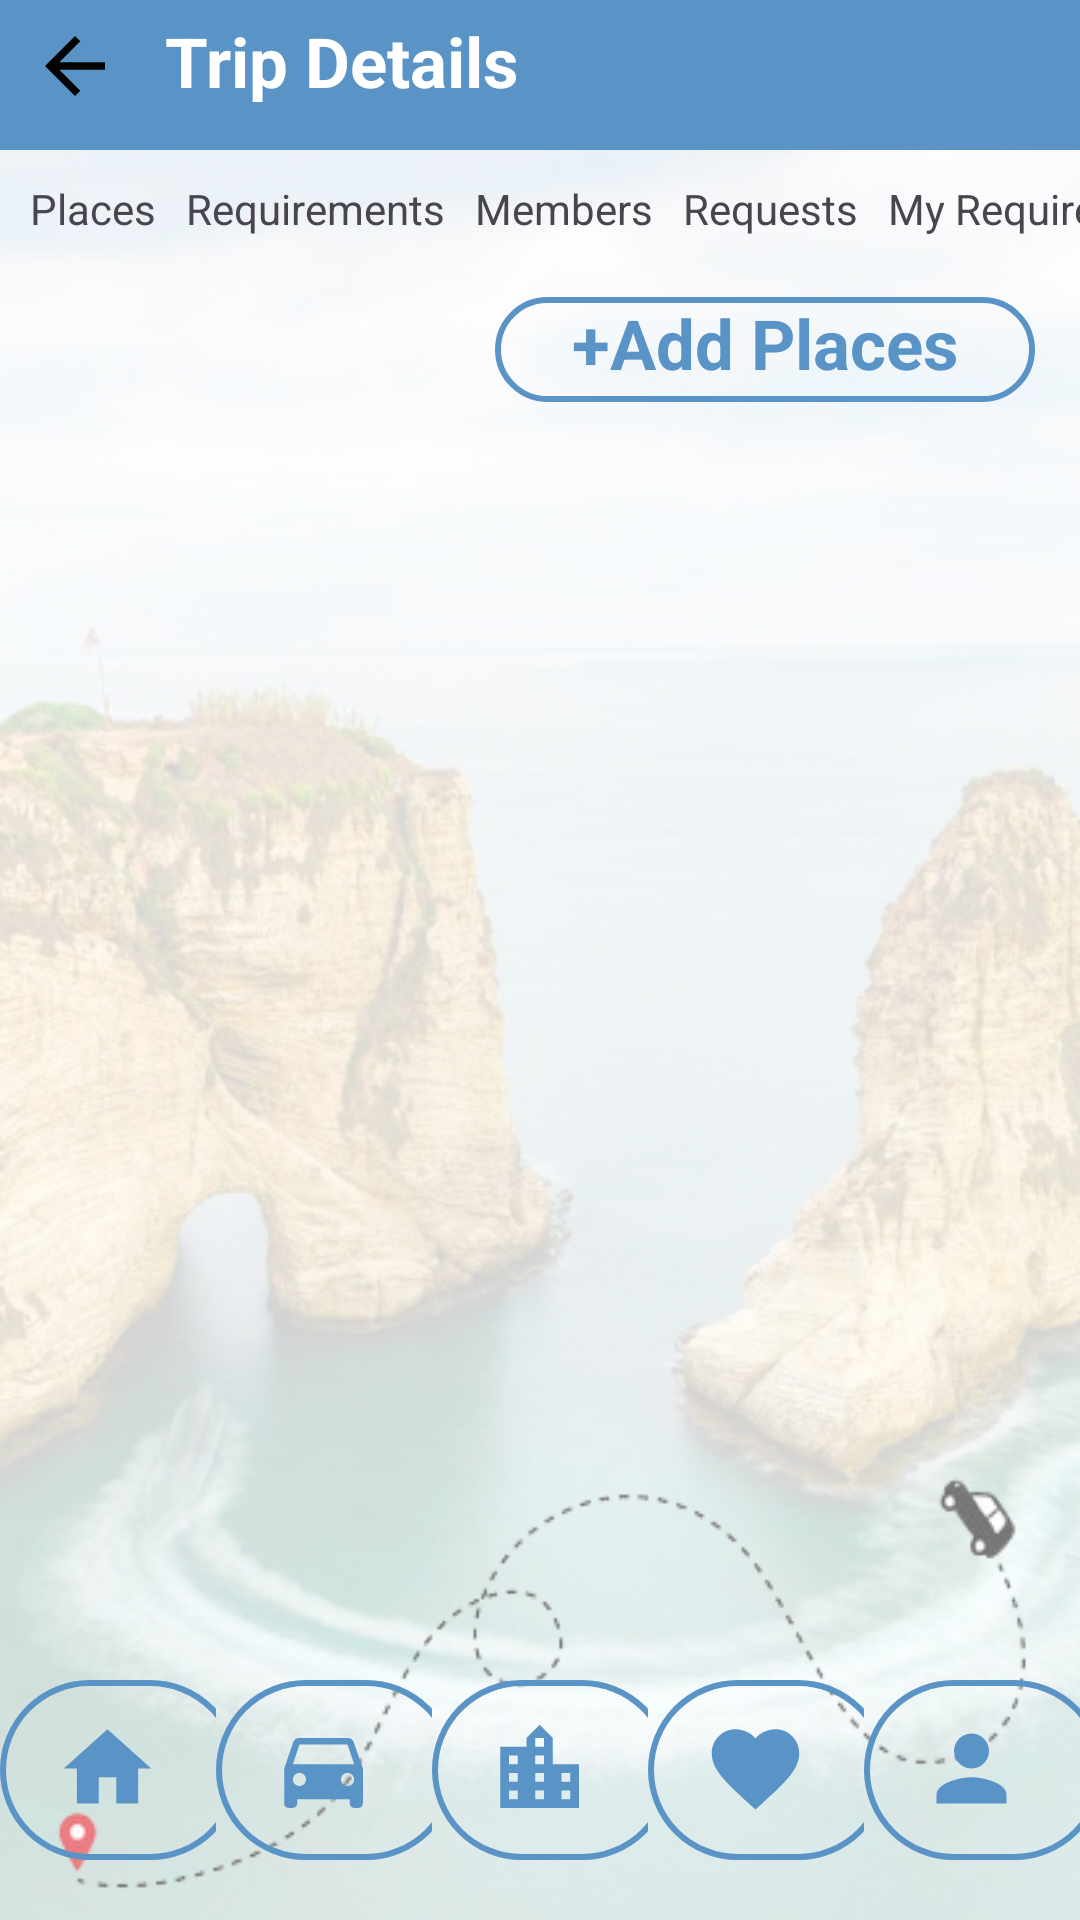

Where icons sit on this 1080px×1920px app screen, as bbox(x1, y1, x2, y2):
arrow back: bbox(45, 36, 105, 96)
